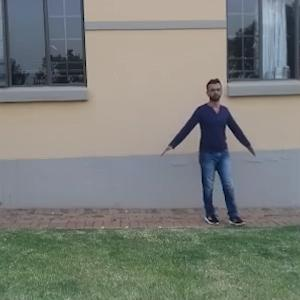land: (160, 83, 255, 228)
